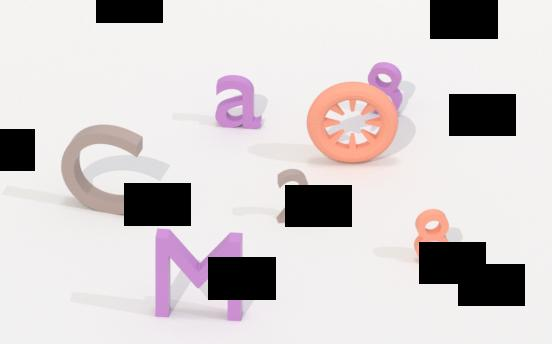2: (273, 169, 315, 233)
M-hoa: (155, 224, 245, 326)
a: (212, 73, 266, 132)
c: (56, 118, 149, 217)
dagiac: (412, 205, 452, 264), (366, 59, 405, 114)
tron: (306, 79, 401, 166)
